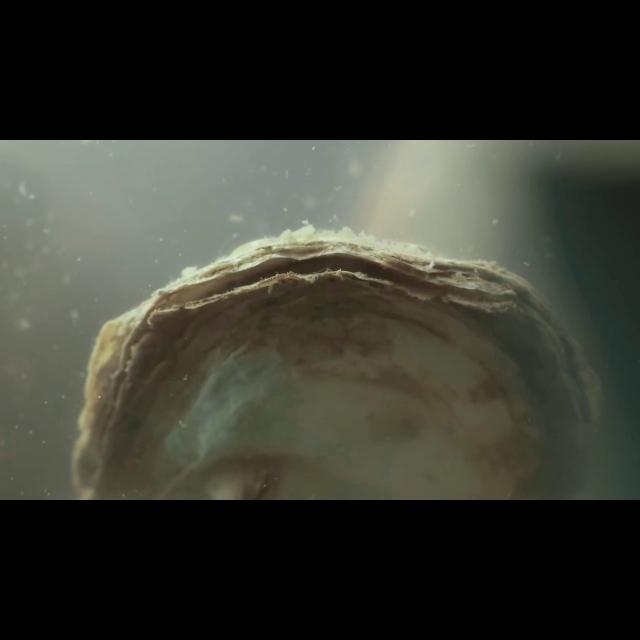Oyster-Open: (67, 218, 614, 499)
